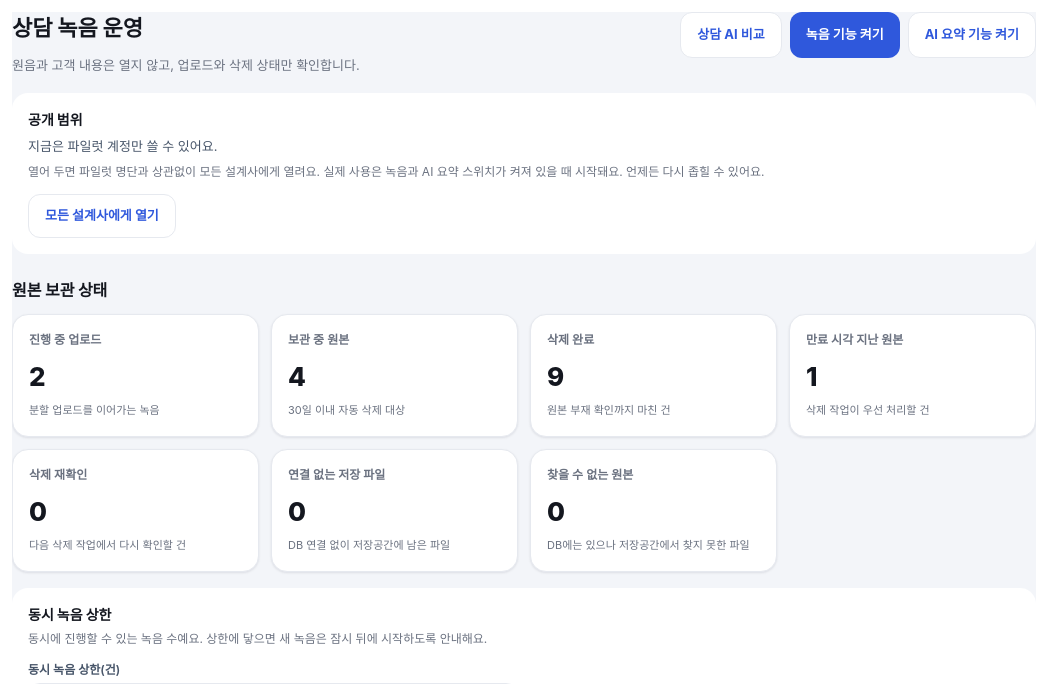
상담 녹음 관리자 화면 › 파일럿만 쓰는 상태를 보여주고 모든 설계사에게 열 수 있다
This screenshot has width=1048, height=684.
Expected: the heading "상담 녹음 운영" is shown, top-left (12, 15), bottom-right (143, 41)
Expected: the heading "공개 범위" is shown, top-left (28, 111), bottom-right (83, 128)
Click the button "모든 설계사에게 열기". click: (102, 216)
box: top-left (28, 194), bottom-right (176, 238)
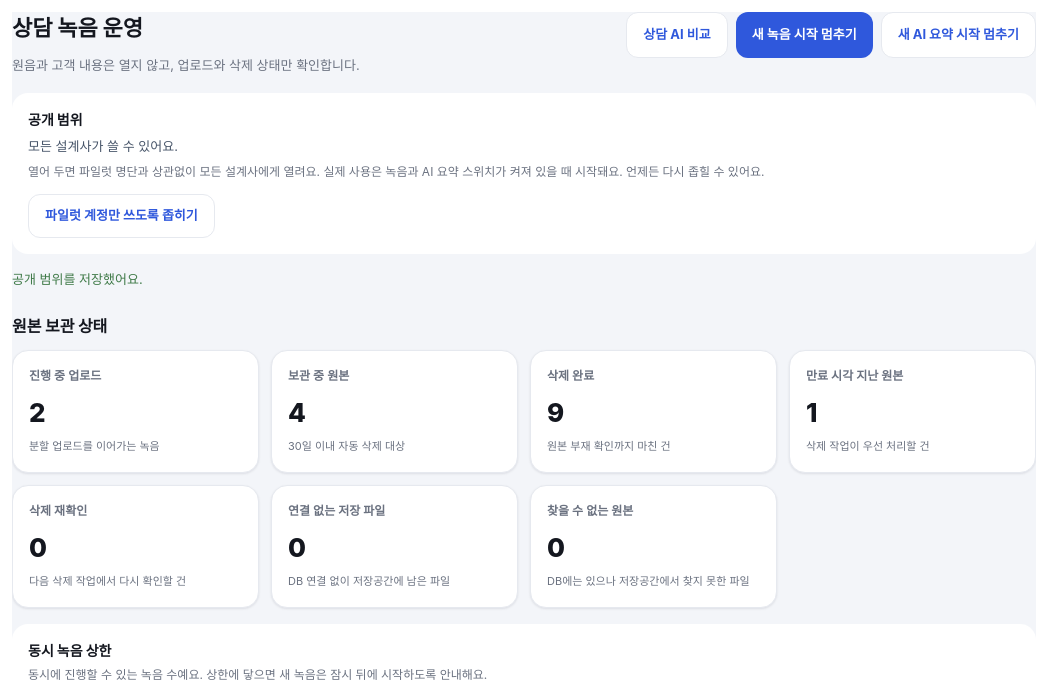
Now the text "공개 범위를 저장했어요." is shown, box top-left (12, 271), bottom-right (143, 287)
Now the text "모든 설계사가 쓸 수 있어요." is shown, box top-left (28, 138), bottom-right (178, 154)
Now the button "파일럿 계정만 쓰도록 좁히기" is shown, box top-left (28, 194), bottom-right (215, 238)
